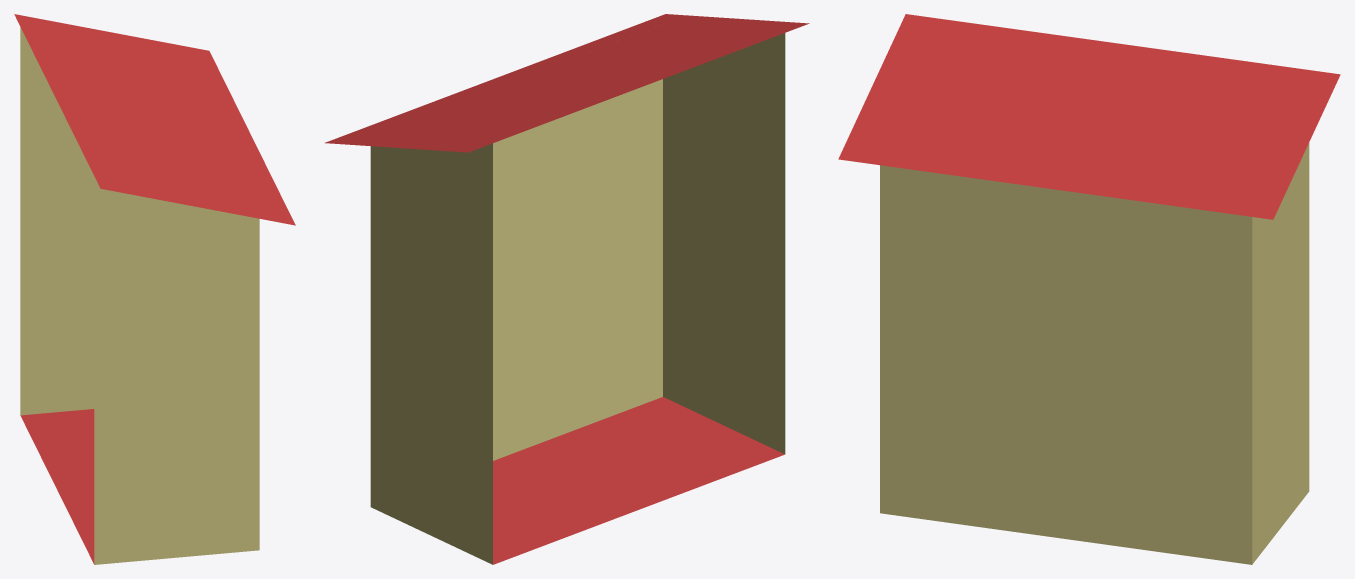
3 renders of one model, left to right at view 1: azimuth 30°, elevation 25°; view 2: azimuth 150°, elevation 25°; view 3: azimuth 270°, elevation 25°, orthographic. The views are drawn at different scales.
Bounding box in the file's own units: 5.26 × 7.59 × 7.02.
